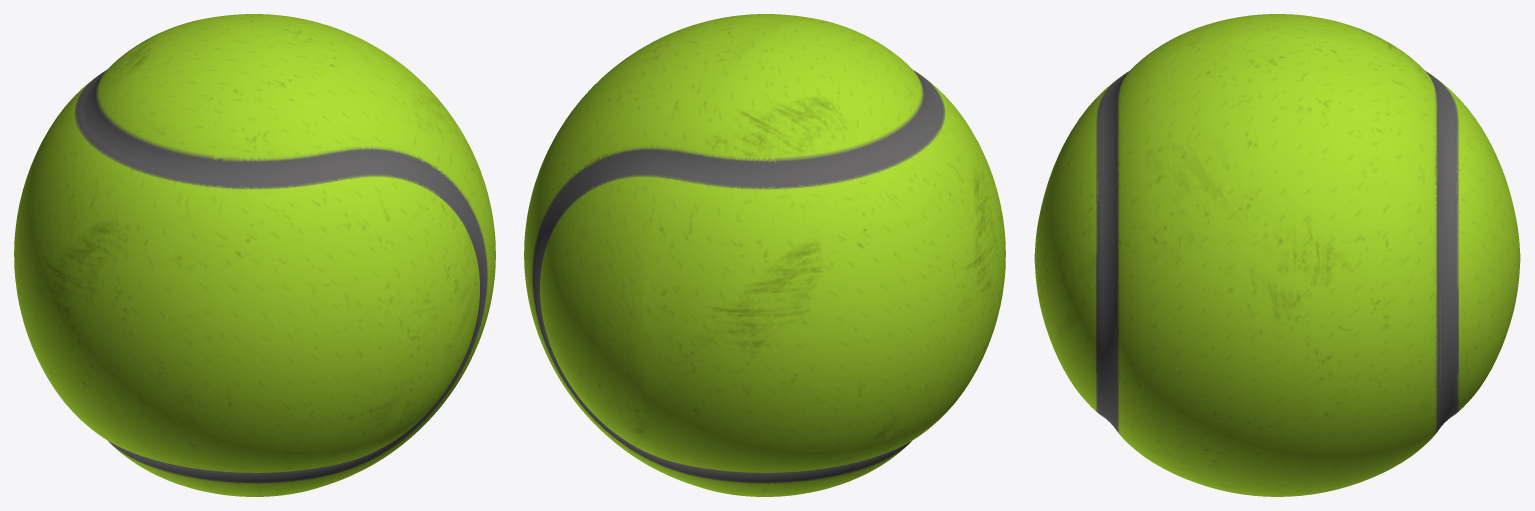
The model's file is Tennissssssssssss.fbx.
3 renders of one model, left to right at view 1: azimuth 30°, elevation 25°; view 2: azimuth 150°, elevation 25°; view 3: azimuth 270°, elevation 25°, orthographic.
Parts seen in each view (by area): view 1: Sphere.001; view 2: Sphere.001; view 3: Sphere.001.
Part boxes in pixels (left/top/right/bottom): Sphere.001: left=14, top=14, right=495, bottom=496; Sphere.001: left=524, top=14, right=1005, bottom=496; Sphere.001: left=1034, top=14, right=1520, bottom=496.
Bounding box in the file's own units: 30.06 × 30.32 × 30.32.
